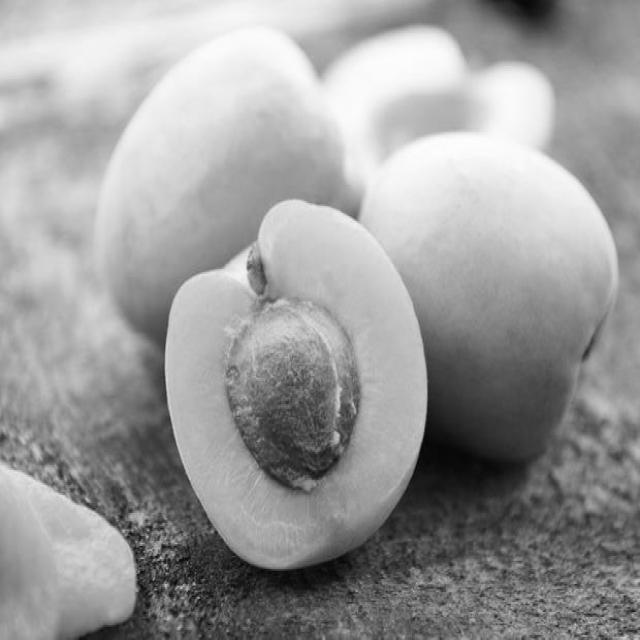Kayisi: (171, 199, 426, 569), (359, 136, 620, 464)
Kayisi Cekirdegi: (230, 296, 358, 493)
